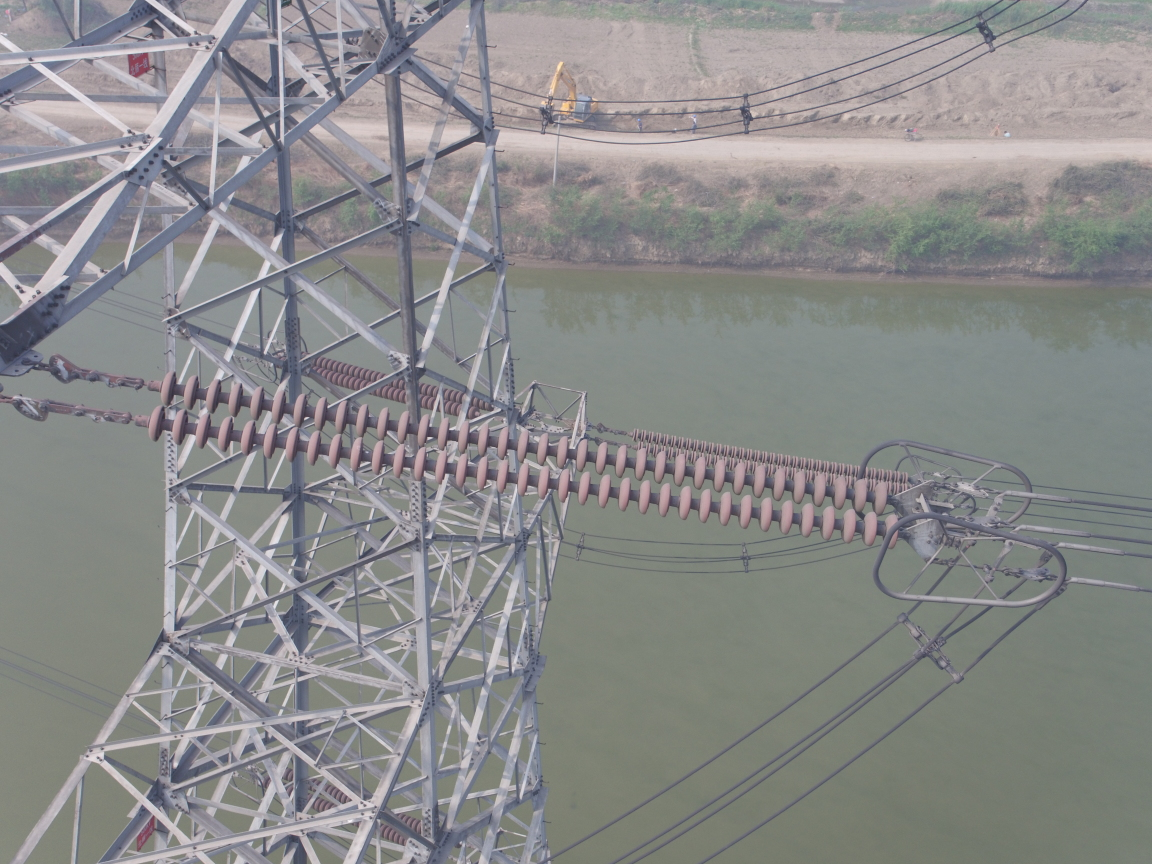insulator: (93, 367, 919, 550)
